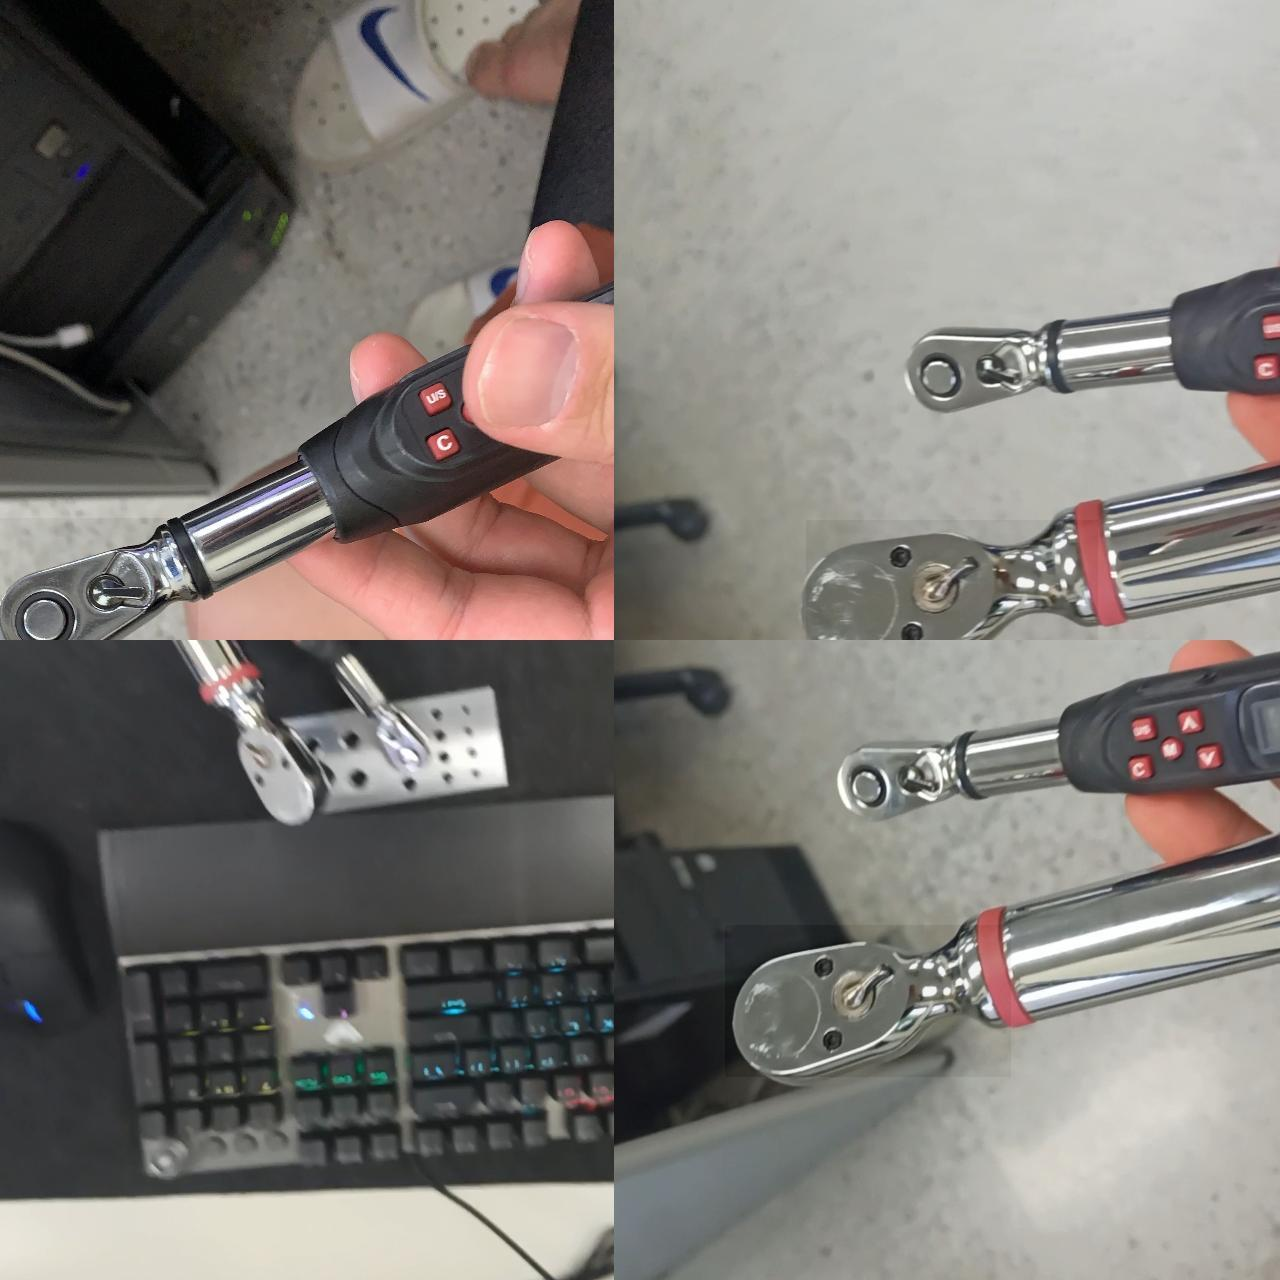Tool: (725, 925, 1011, 1077), (806, 520, 1098, 640), (0, 518, 198, 640), (902, 325, 1054, 413), (833, 734, 961, 826)
